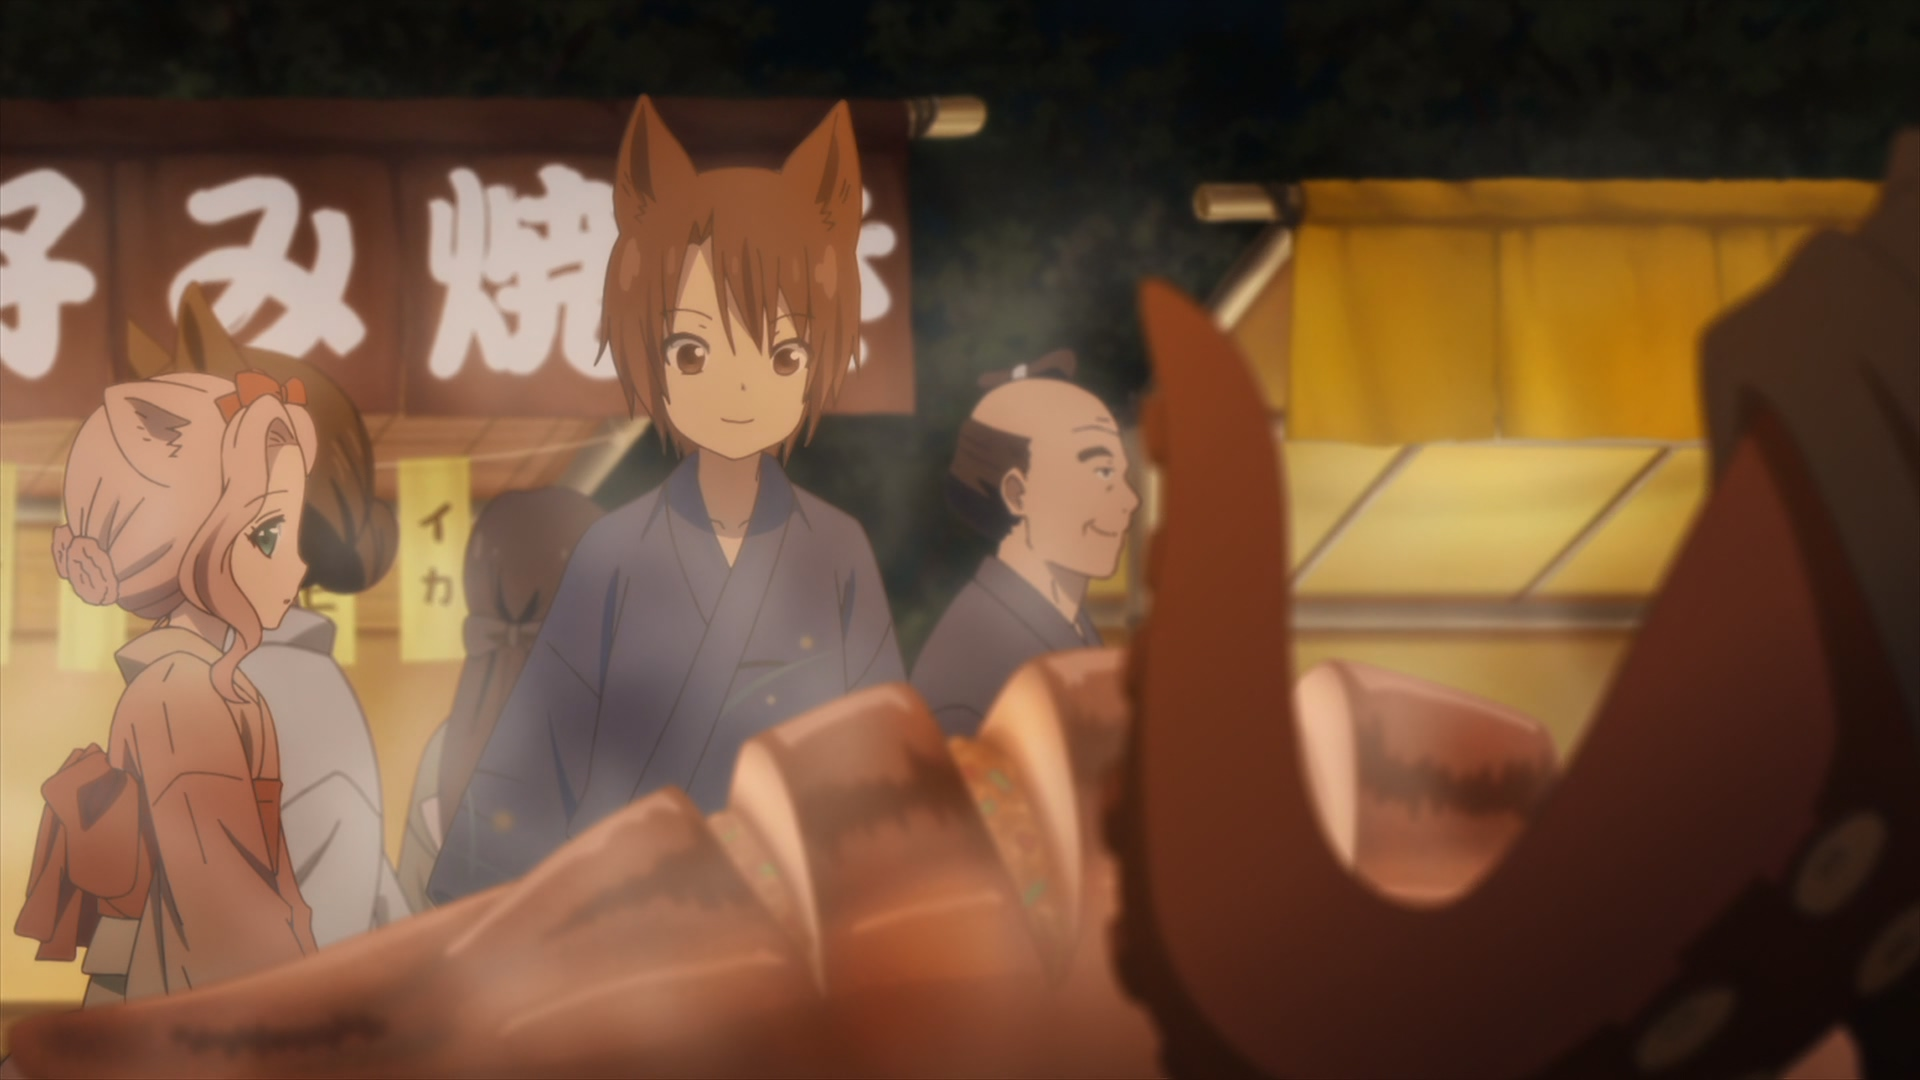其他: (109, 281, 397, 949), (397, 488, 609, 913), (910, 348, 1139, 733)
枣: (433, 99, 905, 901)
莲: (16, 369, 316, 1005)
